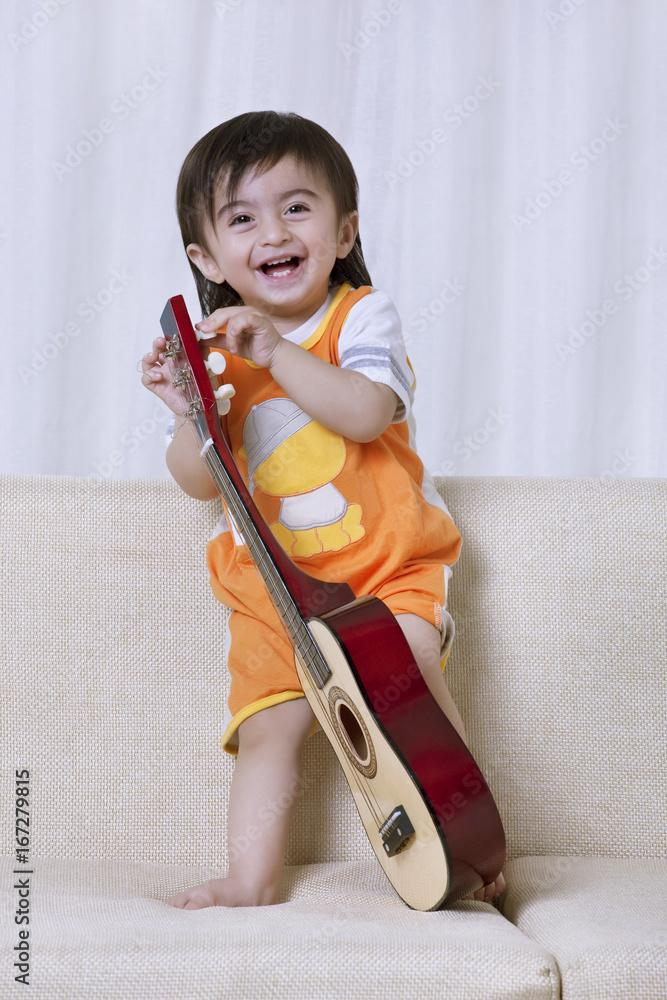Human: (131, 101, 544, 914)
